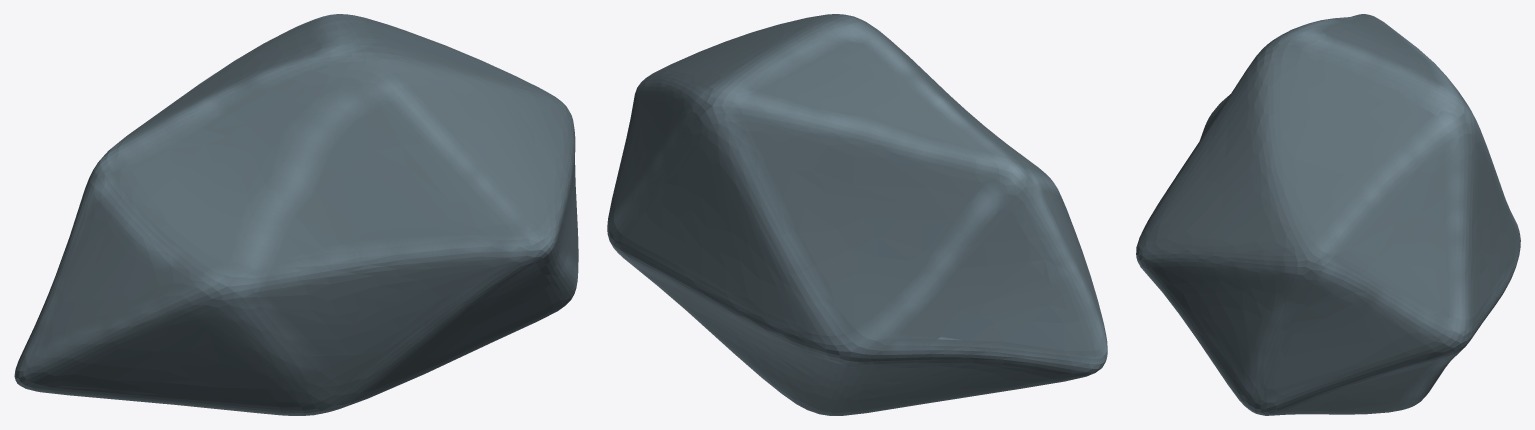
File: MineableRock_size2.fbx
3 renders of one model, left to right at view 1: azimuth 30°, elevation 25°; view 2: azimuth 150°, elevation 25°; view 3: azimuth 270°, elevation 25°, orthographic. The views are drawn at different scales.
Parts seen in each view (by area): view 1: MineableRock_size2; view 2: MineableRock_size2; view 3: MineableRock_size2.
Boxes of the visible parts, x1,y1,x2,y2 form: MineableRock_size2: [14, 14, 578, 415]; MineableRock_size2: [607, 14, 1107, 415]; MineableRock_size2: [1136, 14, 1520, 415].
Size of the model in its own units: 141 by 223 by 152.
1 material, 1 textured.
